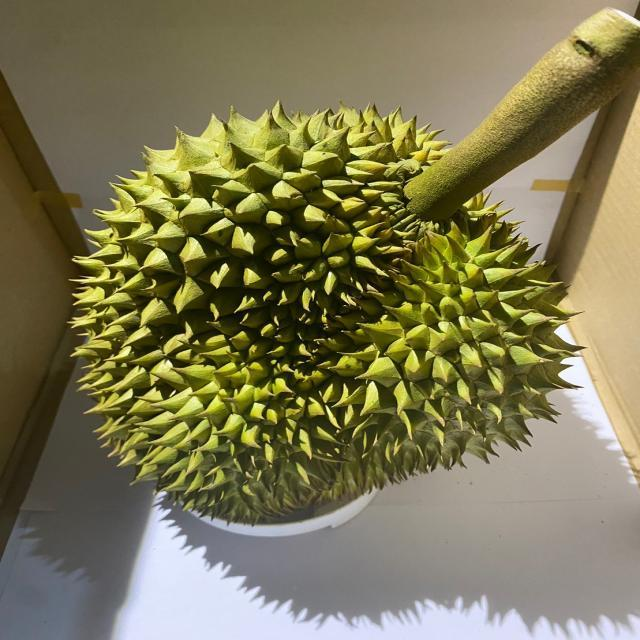immature: (66, 99, 591, 533)
